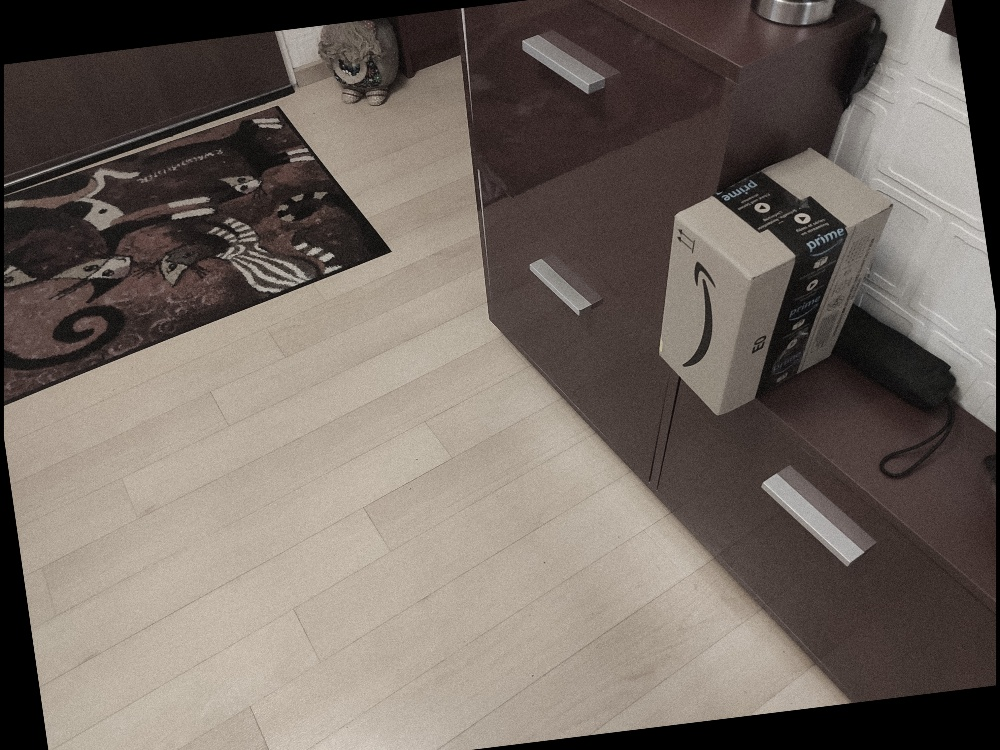good-parcel: (647, 148, 897, 426)
